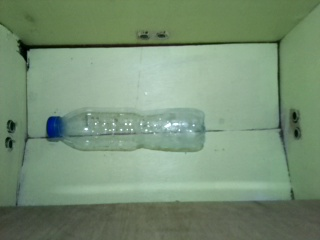bottle: (41, 105, 208, 154)
